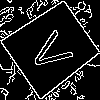V: (26, 23, 82, 77)
